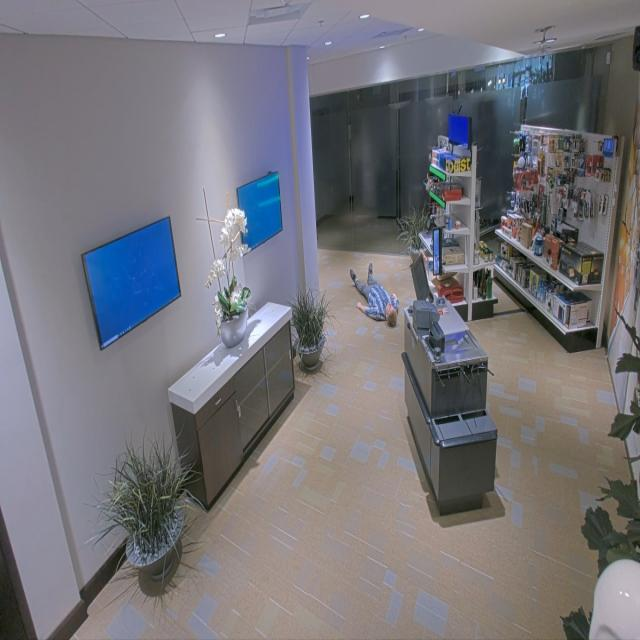fall: (344, 256, 408, 342)
